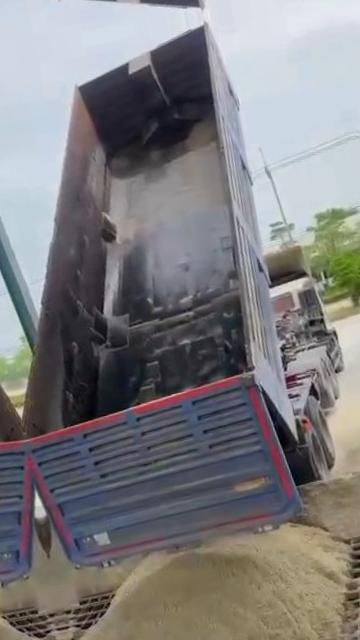sand: (68, 525, 346, 640), (49, 533, 140, 609), (298, 453, 360, 539), (358, 567, 360, 587)
